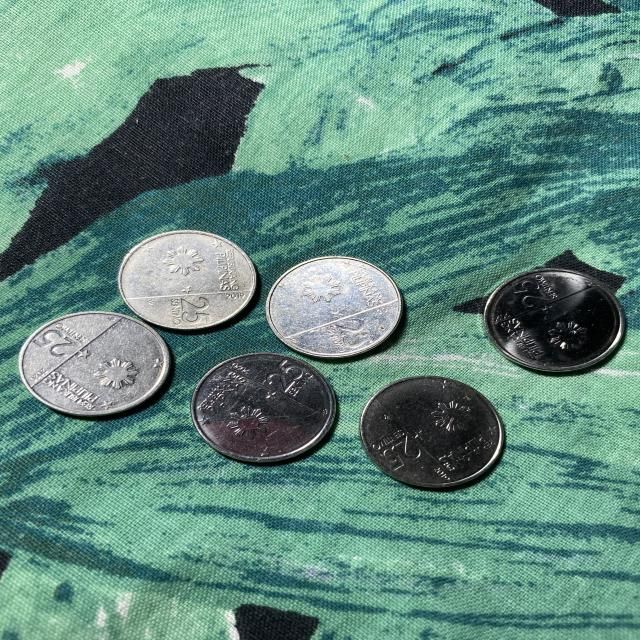25Cent_New_Front: (261, 358, 305, 392), (34, 328, 76, 359), (382, 437, 419, 469), (334, 317, 372, 346), (511, 278, 547, 308), (176, 296, 212, 321)
